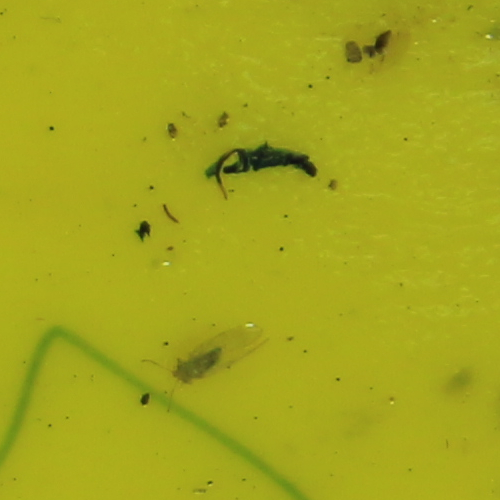psylla: (170, 346, 227, 387)
